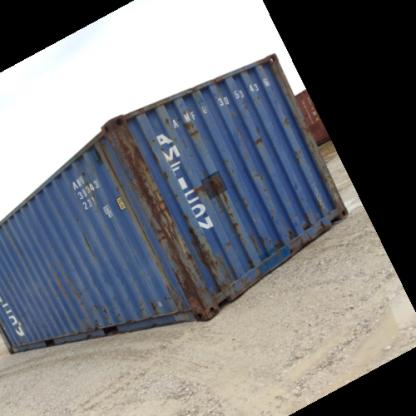Damage: (91, 133, 207, 318), (202, 172, 249, 246), (148, 141, 176, 182), (53, 274, 86, 306), (211, 263, 245, 293), (245, 161, 274, 196), (276, 224, 296, 260), (296, 211, 324, 235), (235, 89, 258, 115), (178, 110, 199, 138), (254, 226, 272, 256), (289, 140, 308, 168), (249, 128, 268, 155), (157, 109, 172, 130), (278, 110, 292, 131)
